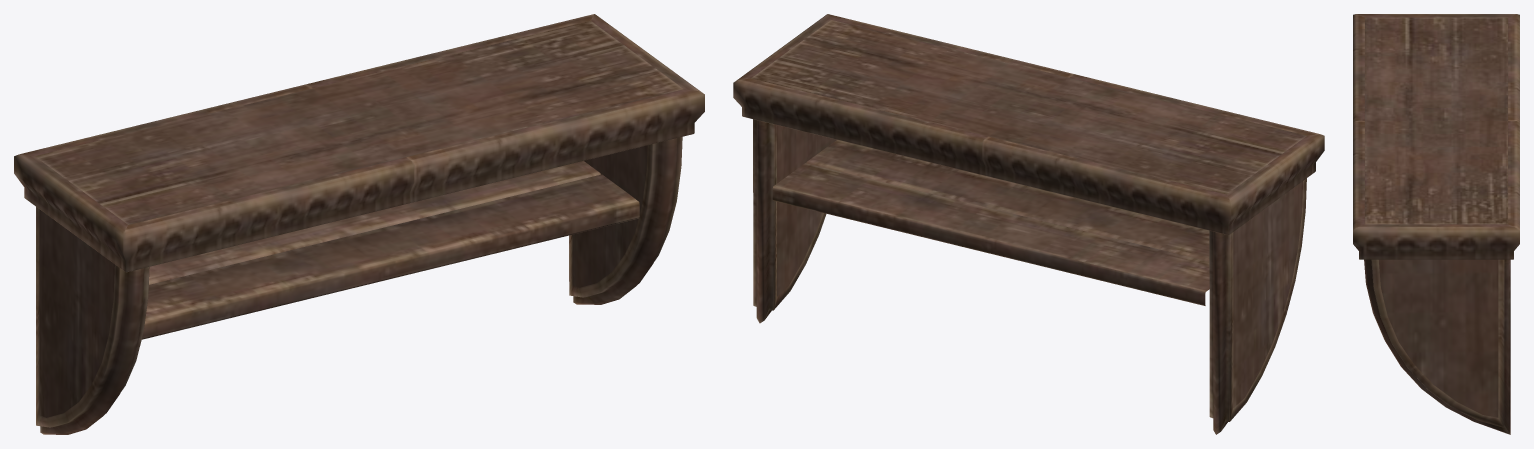
File: t1_shelf_carved_wooden.glb
3 views of the same model, side by side, from view 1: azimuth 30°, elevation 25°; view 2: azimuth 150°, elevation 25°; view 3: azimuth 270°, elevation 25° (orthographic). The views are drawn at different scales.
Parts seen in each view (by area): view 1: ensemble_set_dungeon_wandboard_small; view 2: ensemble_set_dungeon_wandboard_small; view 3: ensemble_set_dungeon_wandboard_small.
Part boxes in pixels (<box>): ensemble_set_dungeon_wandboard_small: <box>14,14,704,434</box>; ensemble_set_dungeon_wandboard_small: <box>733,14,1324,434</box>; ensemble_set_dungeon_wandboard_small: <box>1353,14,1519,434</box>.
Size of the model in its own units: 2.15 by 0.9966 by 0.7.
Materials: 1 (1 with a texture image).
